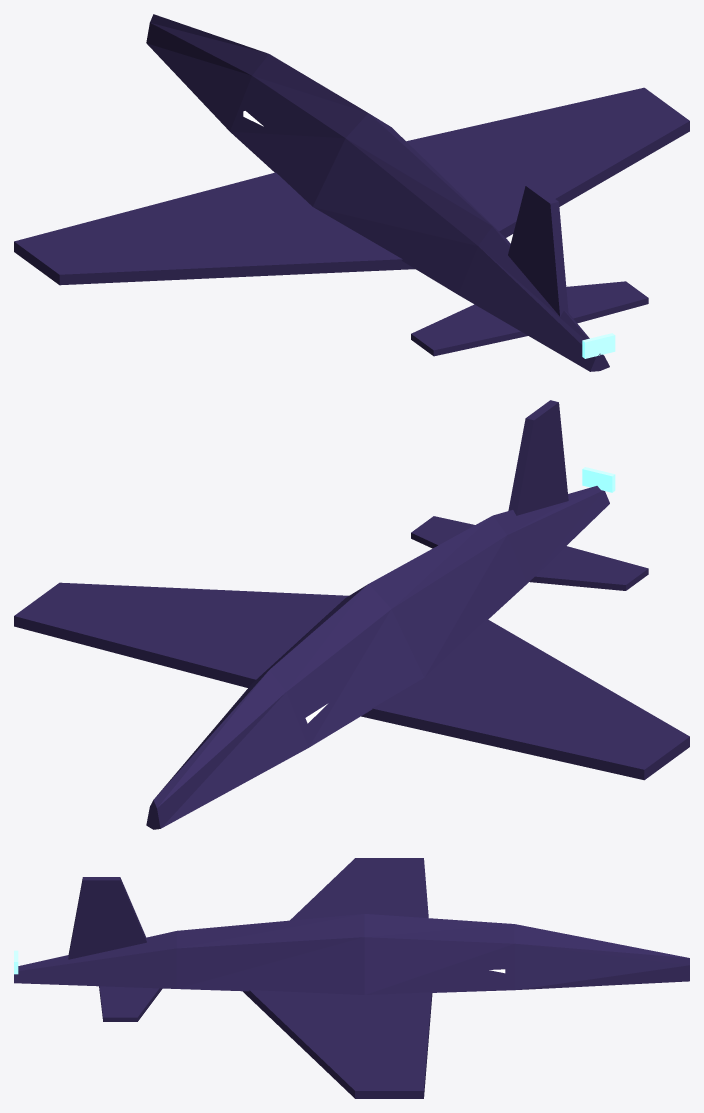
Rendered from 02_afterburner_jet.glb.
3 views of the same model, one above another, from view 1: azimuth 30°, elevation 25°; view 2: azimuth 150°, elevation 25°; view 3: azimuth 270°, elevation 25° (orthographic). The views are drawn at different scales.
Visible parts, largest first — view 1: fuselage_0, wing_1, wing_2, fin_5, tailplane_3, tailplane_4, engine_glow_7; view 2: fuselage_0, wing_1, wing_2, fin_5, tailplane_3, tailplane_4, engine_glow_7; view 3: fuselage_0, wing_2, wing_1, fin_5, tailplane_4.
Part boxes in pixels (x1,y1,x2,y2): fuselage_0: (146,14,609,371); wing_1: (14,172,415,285); wing_2: (406,87,689,237); fin_5: (508,183,568,316); tailplane_3: (411,304,527,356); tailplane_4: (566,281,648,323); engine_glow_7: (582,333,615,358); fuselage_0: (146,486,609,829); wing_1: (361,619,689,780); wing_2: (14,582,348,687); fin_5: (508,400,568,515); tailplane_3: (529,546,648,590); tailplane_4: (411,516,474,548); engine_glow_7: (582,467,615,492); fuselage_0: (14,914,689,994); wing_2: (243,990,432,1098); wing_1: (290,858,428,920); fin_5: (68,877,146,959); tailplane_4: (99,986,162,1021).
Size of the model in its own units: 8.8 by 1.83 by 10.8.
